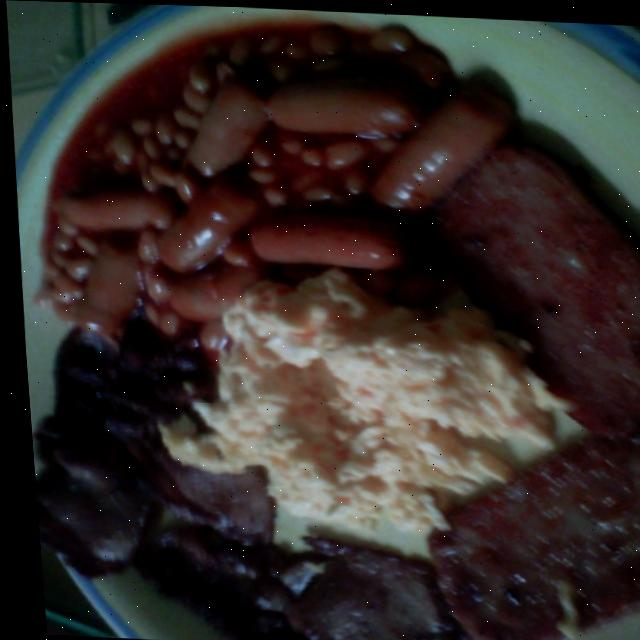鸡蛋料理: (29, 31, 632, 640)
